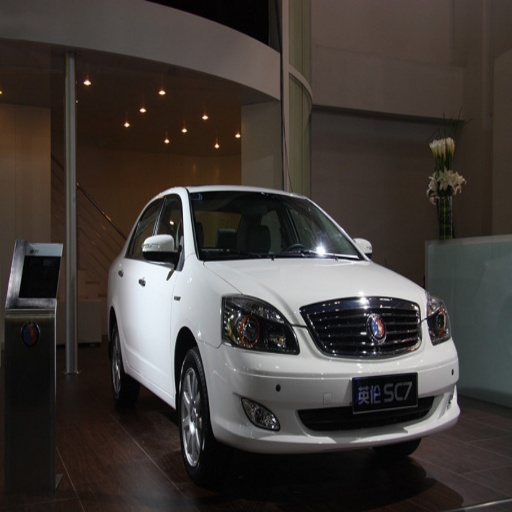front_bumper: (204, 300, 457, 452)
front_right_door: (138, 193, 183, 387)
front_right_light: (222, 295, 298, 352)
hood: (223, 260, 429, 325)
